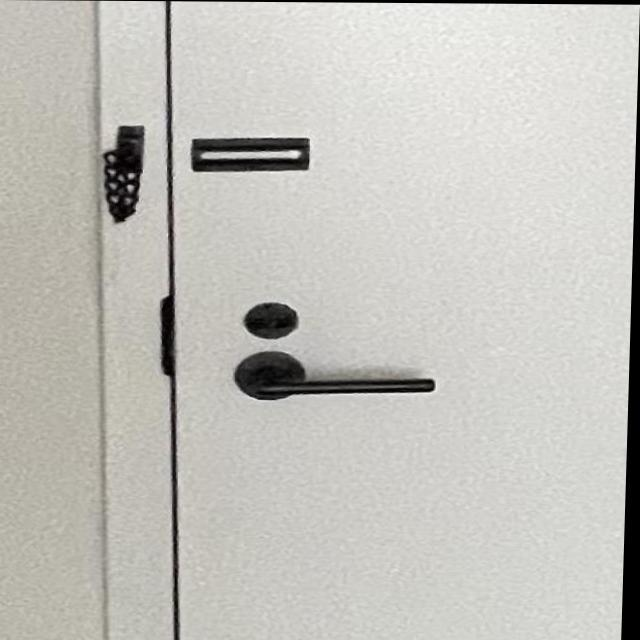door_handle: (224, 343, 458, 416)
